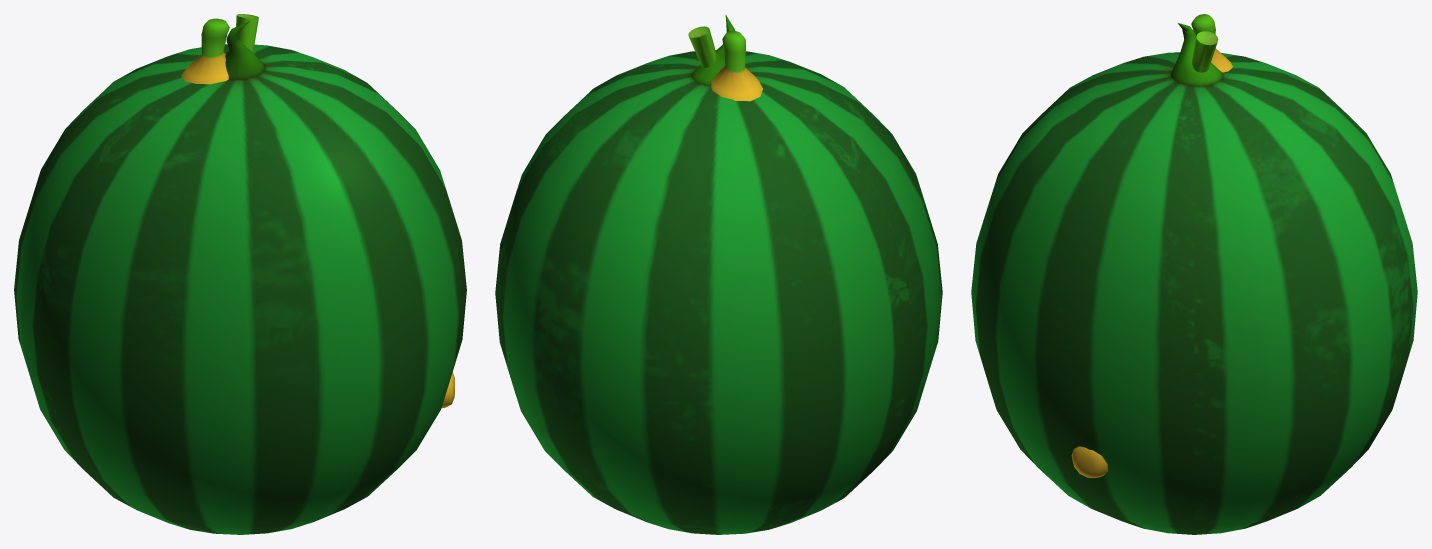
The model's file is Fruits.fbx.
3 views of the same model, side by side, from view 1: azimuth 30°, elevation 25°; view 2: azimuth 150°, elevation 25°; view 3: azimuth 270°, elevation 25° (orthographic).
Parts seen in each view (by area): view 1: Watermelon, Banana, Apple; view 2: Watermelon, Banana, Apple; view 3: Watermelon, Banana, Apple.
Boxes of the visible parts, x1,y1,x2,y2 form: Watermelon: (14,21,466,534); Banana: (181,18,454,408); Apple: (236,14,258,52); Watermelon: (495,14,942,534); Banana: (711,30,762,101); Apple: (688,26,716,68); Watermelon: (971,23,1417,534); Banana: (1071,14,1232,477); Apple: (1192,31,1218,72).
Size of the model in its own units: 0.976 by 1.19 by 0.9788.
